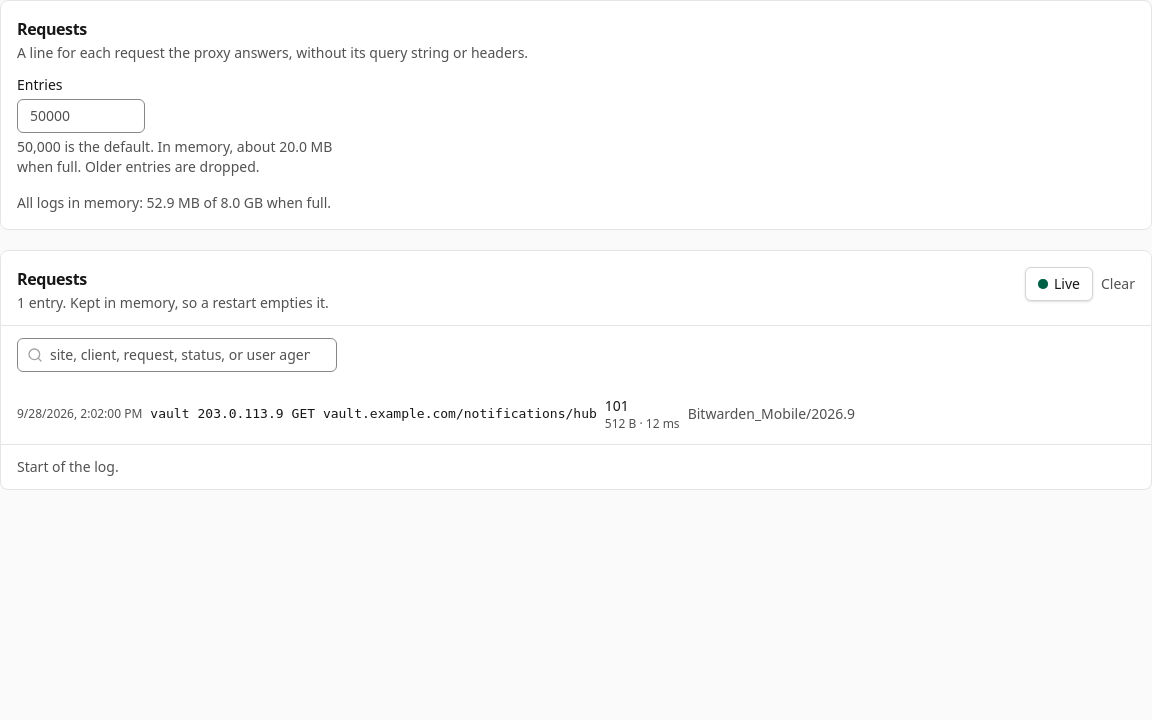
it: RequestsTab › clears the router’s log, once asked
What coordinates should you click on to do the following:
click the button "Clear"
I would click on:
 (1118, 284)
Its box is [1101, 274, 1135, 294].
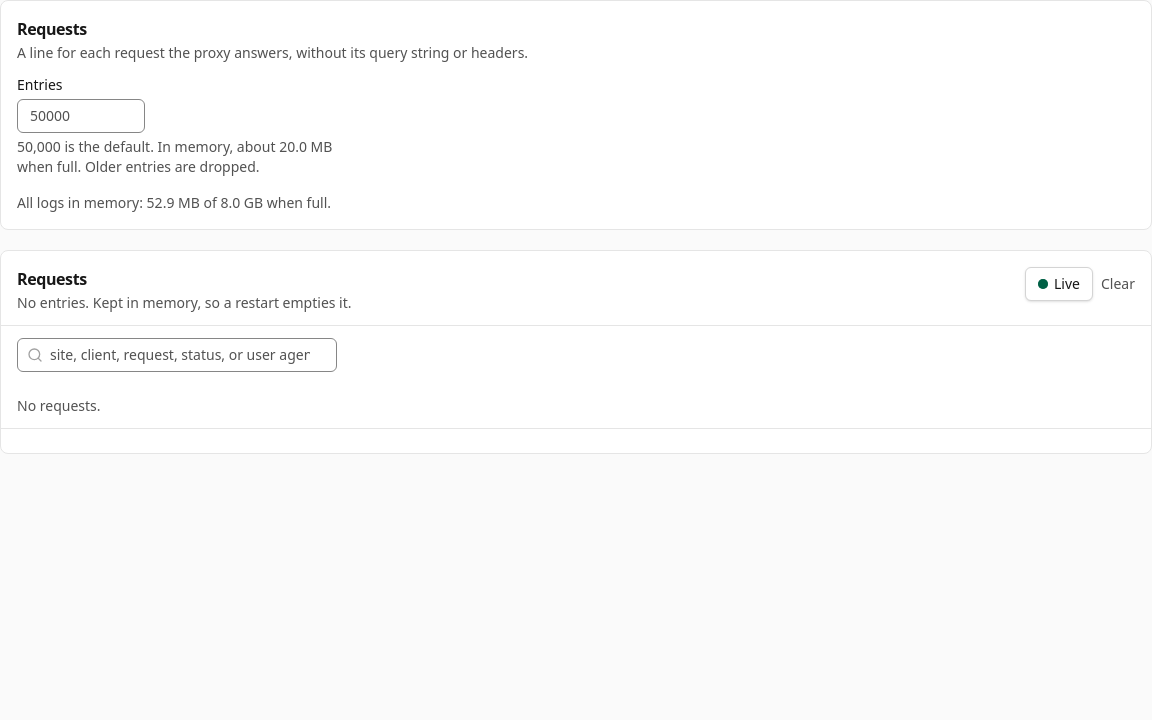
Expected: the text "No requests." is shown, [17, 396, 100, 416]
